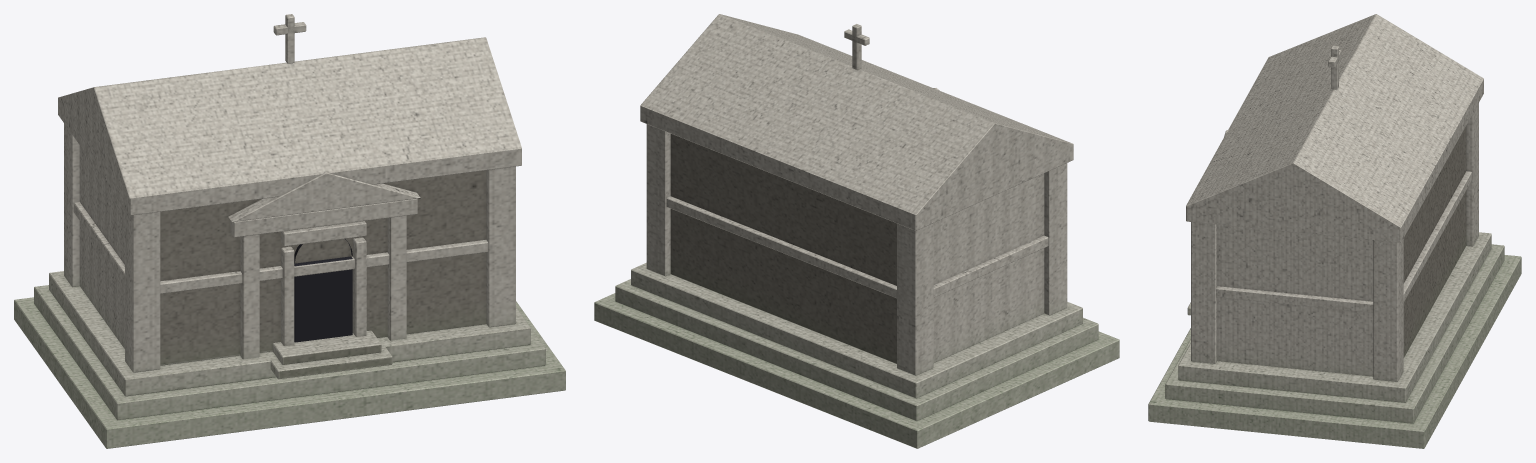
The model's file is Mausoleum.fbx.
The picture shows the model from 3 angles, left to right: view 1: azimuth 30°, elevation 25°; view 2: azimuth 150°, elevation 25°; view 3: azimuth 270°, elevation 25°; orthographic projection. The views are drawn at different scales.
Parts seen in each view (by area): view 1: Mausoleum; view 2: Mausoleum; view 3: Mausoleum.
Boxes of the visible parts, x1,y1,x2,y2 form: Mausoleum: [14, 14, 565, 448]; Mausoleum: [594, 14, 1119, 448]; Mausoleum: [1148, 14, 1521, 448].
Size of the model in its own units: 33.76 by 23.4 by 26.31.
1 material, 1 textured.
